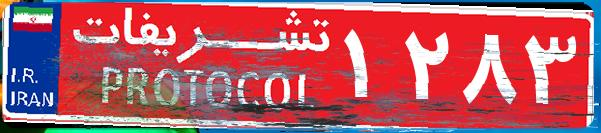1: (340, 20, 400, 115)
2: (400, 20, 460, 115)
3: (520, 20, 580, 115)
8: (460, 20, 520, 115)
تشریفات: (60, 8, 340, 125)
